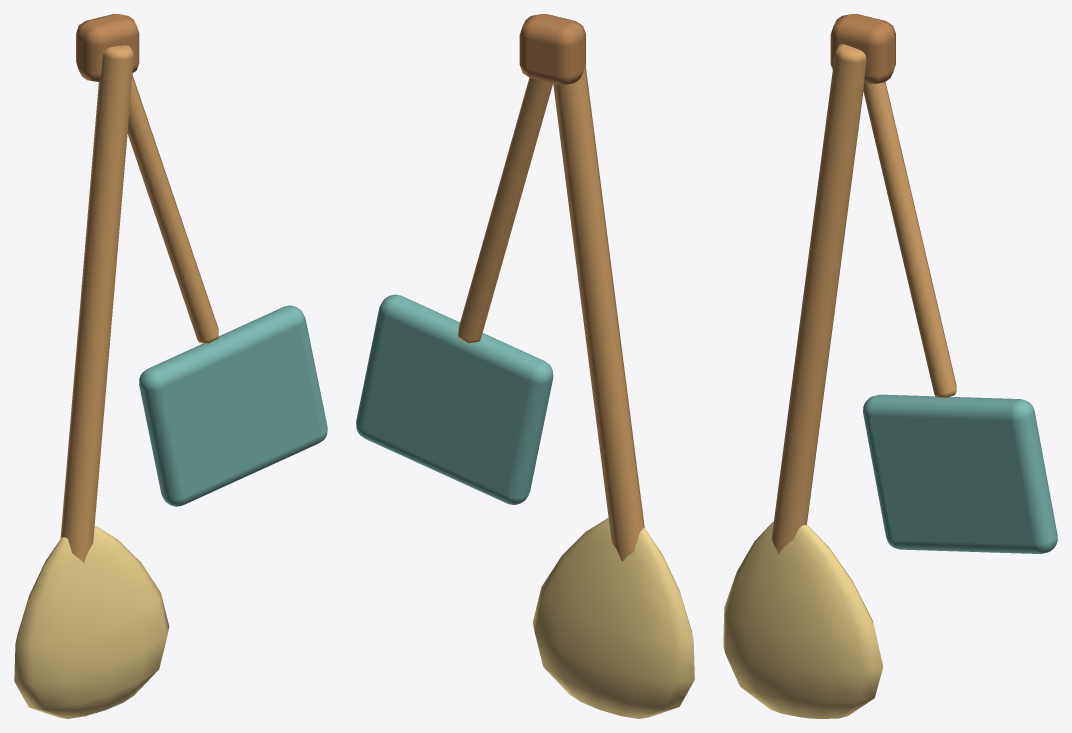
File: broom_and_dustpan.glb
The picture shows the model from 3 angles, left to right: view 1: azimuth 30°, elevation 25°; view 2: azimuth 150°, elevation 25°; view 3: azimuth 330°, elevation 25°; orthographic projection. The views are drawn at different scales.
Visible parts, largest first — view 1: broom_and_dustpan_mesh; view 2: broom_and_dustpan_mesh; view 3: broom_and_dustpan_mesh.
Part boxes in pixels (x1,y1,x2,y2): broom_and_dustpan_mesh: [14, 14, 327, 718]; broom_and_dustpan_mesh: [356, 14, 694, 718]; broom_and_dustpan_mesh: [723, 14, 1057, 718].
Size of the model in its own units: 0.3456 by 0.6989 by 0.092.
